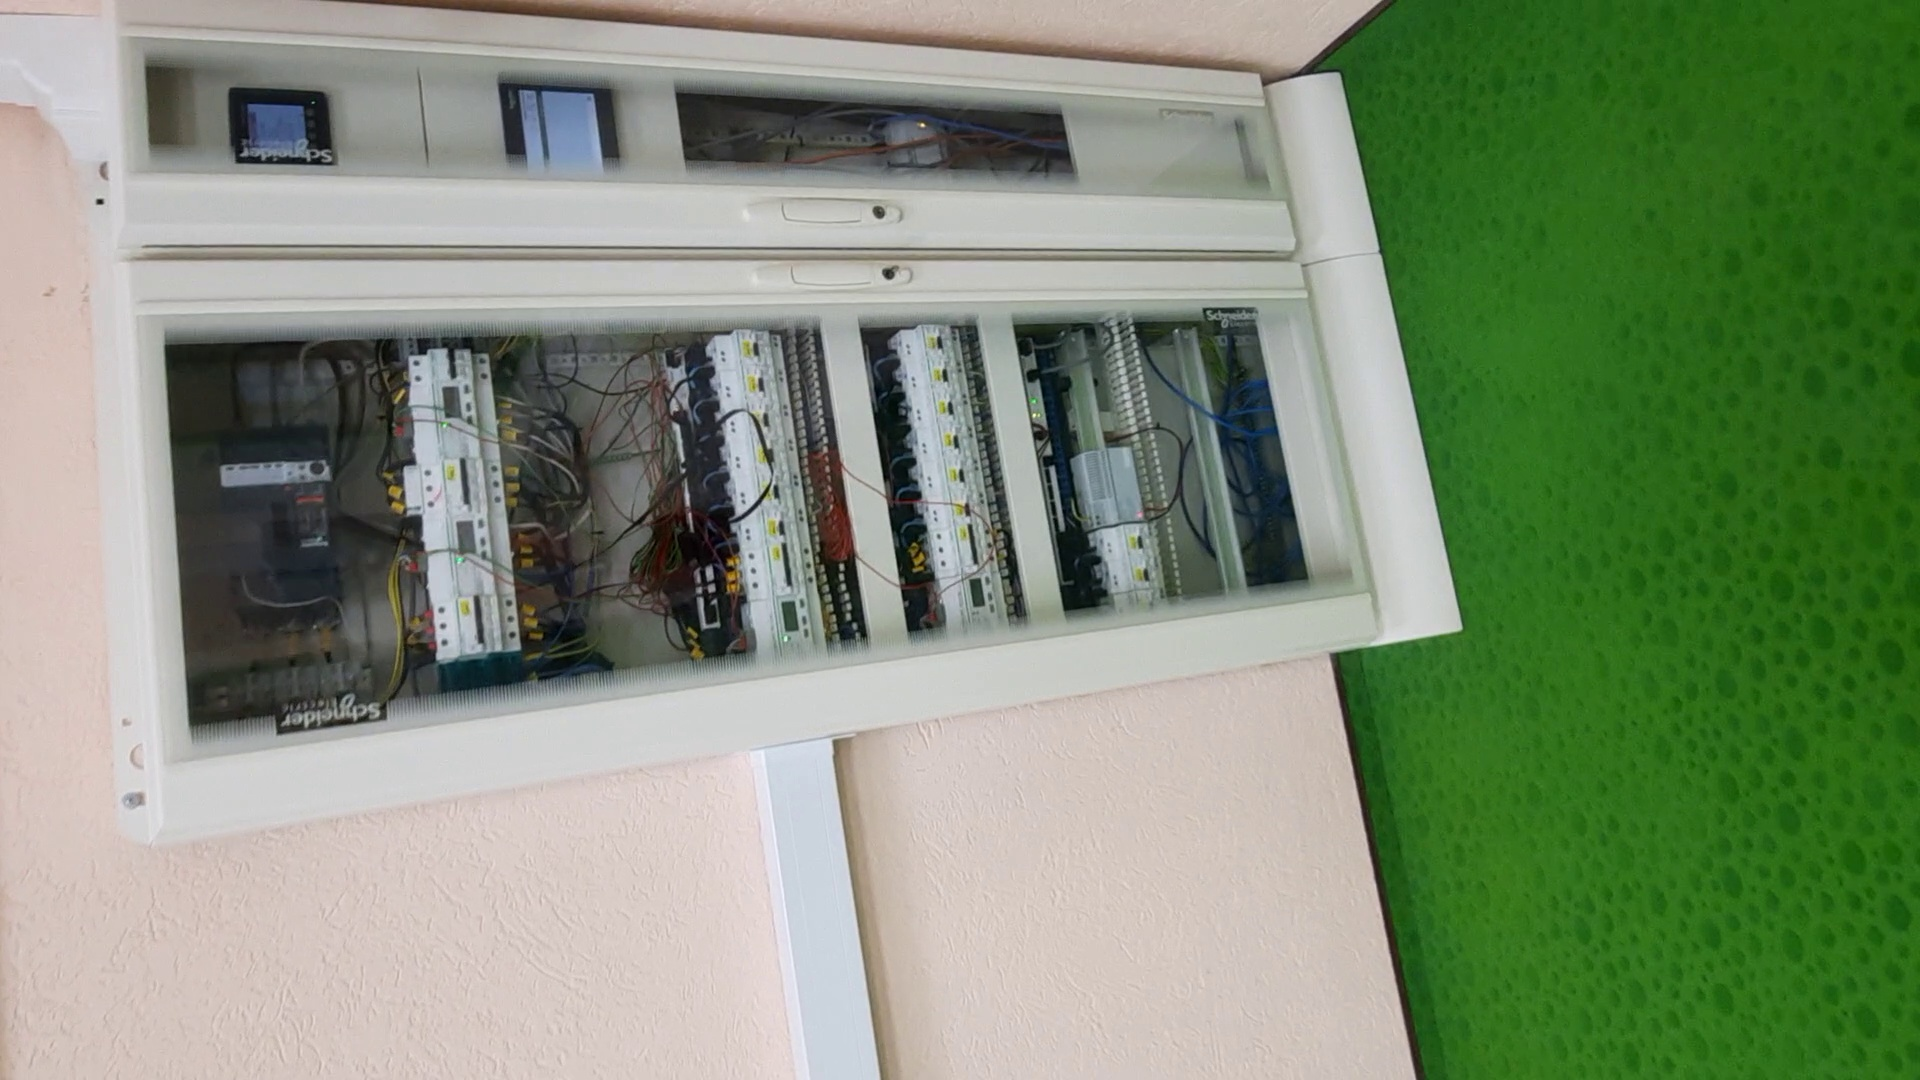stand1: (84, 1, 1491, 855)
